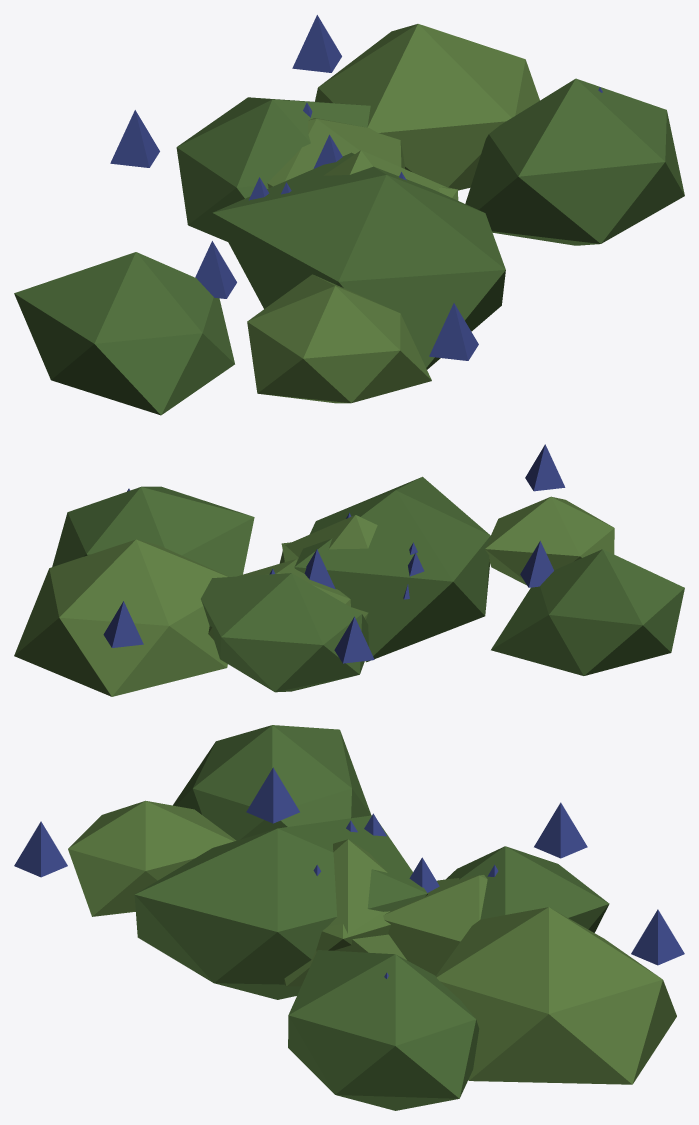
File: blabarsris_1.glb
The picture shows the model from 3 angles, top to bottom: view 1: azimuth 30°, elevation 25°; view 2: azimuth 150°, elevation 25°; view 3: azimuth 270°, elevation 25°; orthographic projection. The views are drawn at different scales.
Parts seen in each view (by area): view 1: blabarsris_1; view 2: blabarsris_1; view 3: blabarsris_1.
Boxes of the visible parts, bbox=[...] form: blabarsris_1: bbox=[14, 15, 684, 415]; blabarsris_1: bbox=[14, 444, 684, 696]; blabarsris_1: bbox=[14, 725, 684, 1110].
Bounding box in the file's own units: 1.64 × 0.4242 × 1.49.
